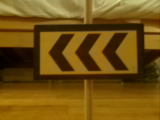left: (34, 26, 143, 77)
